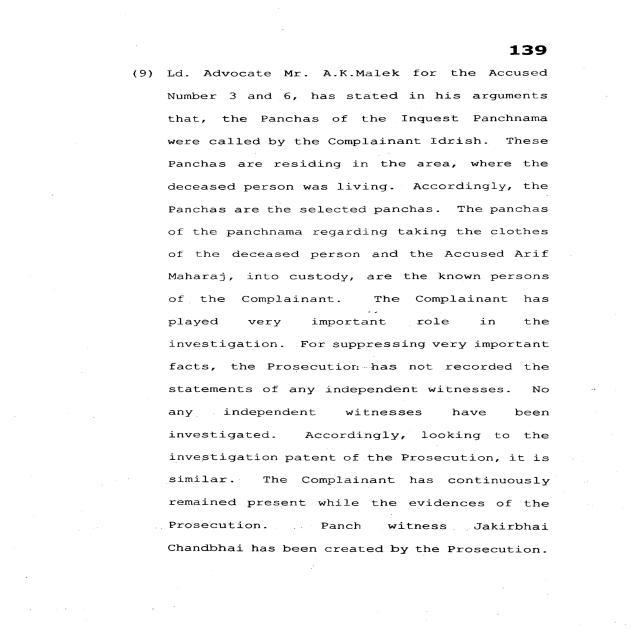page-number: (424, 1, 640, 64)
